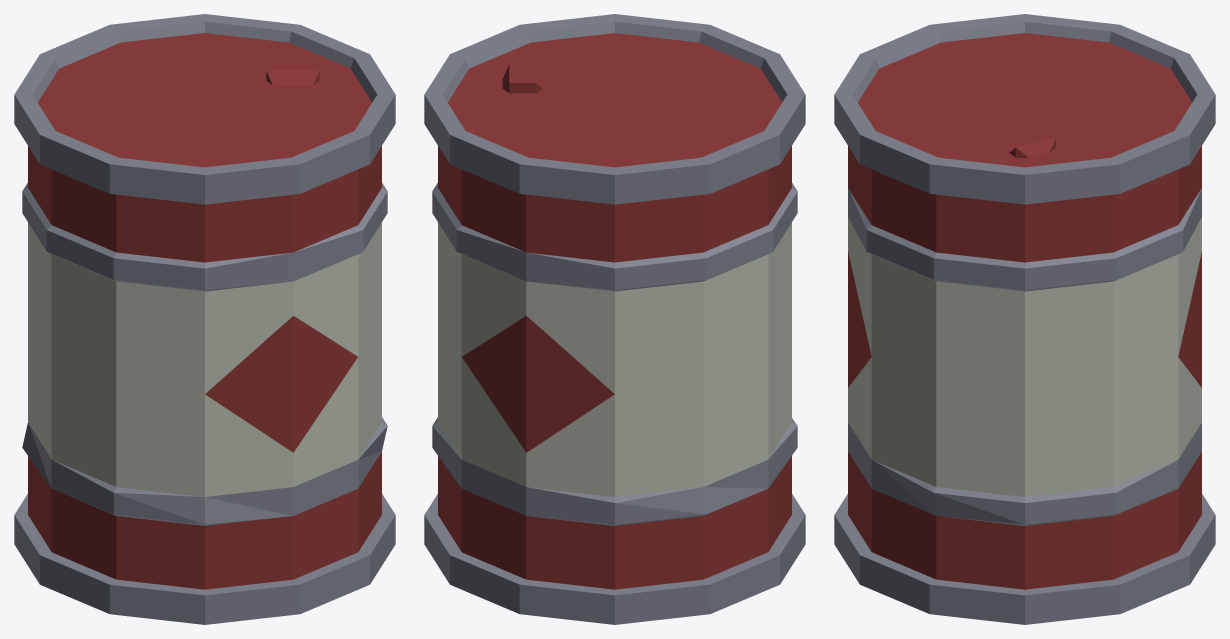
File: exploding_barrel_lod.glb
3 renders of one model, left to right at view 1: azimuth 30°, elevation 25°; view 2: azimuth 150°, elevation 25°; view 3: azimuth 270°, elevation 25°, orthographic.
Visible parts, largest first — view 1: ExplodingBarrel; view 2: ExplodingBarrel; view 3: ExplodingBarrel.
Part boxes in pixels (x1,y1,x2,y2): ExplodingBarrel: (14,14,395,624); ExplodingBarrel: (424,14,805,624); ExplodingBarrel: (834,14,1215,624).
Bounding box in the file's own units: 0.785 × 1.02 × 0.785.
